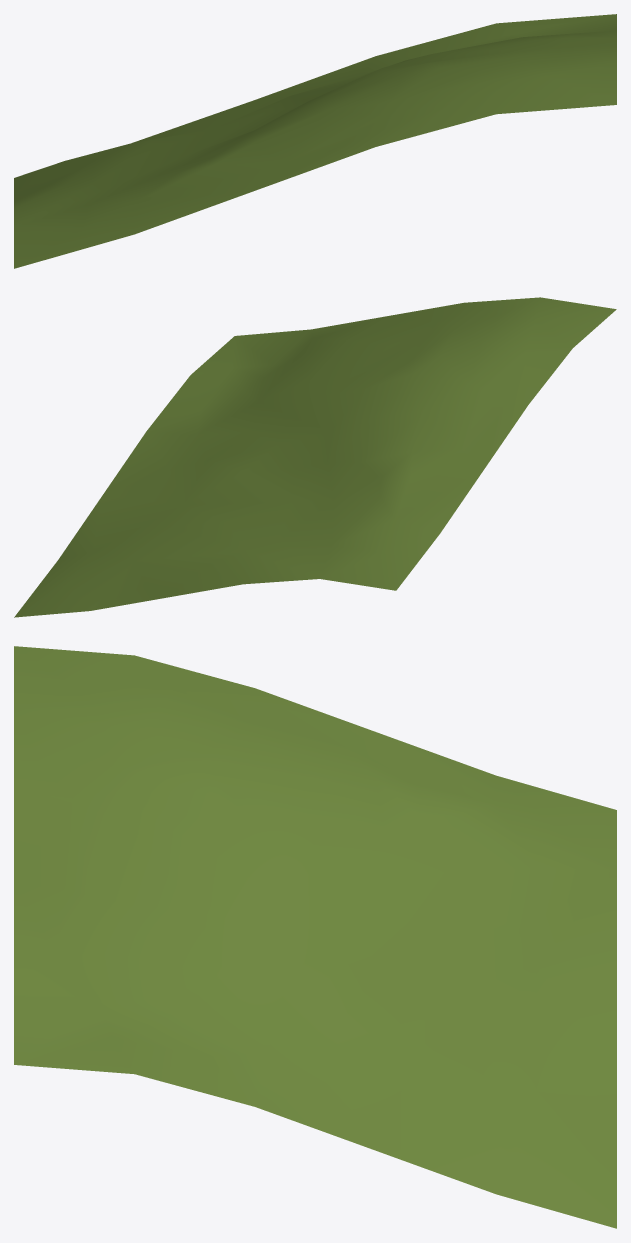
File: rpgpp_ag_terrain_hill_03b_10x10m_3-3m.fbx
3 renders of one model, top to bottom at view 1: azimuth 90°, elevation 25°; view 2: azimuth 150°, elevation 25°; view 3: azimuth 270°, elevation 25°, orthographic. The views are drawn at different scales.
Parts seen in each view (by area): view 1: rpgpp_ag_terrain_hill_03b_10x10m_3-3m; view 2: rpgpp_ag_terrain_hill_03b_10x10m_3-3m; view 3: rpgpp_ag_terrain_hill_03b_10x10m_3-3m.
Boxes of the visible parts, x1=… form: rpgpp_ag_terrain_hill_03b_10x10m_3-3m: x1=14, y1=14, x2=616, y2=268; rpgpp_ag_terrain_hill_03b_10x10m_3-3m: x1=14, y1=297, x2=616, y2=617; rpgpp_ag_terrain_hill_03b_10x10m_3-3m: x1=14, y1=646, x2=616, y2=1228.
Size of the model in its own units: 10 by 6 by 10.
